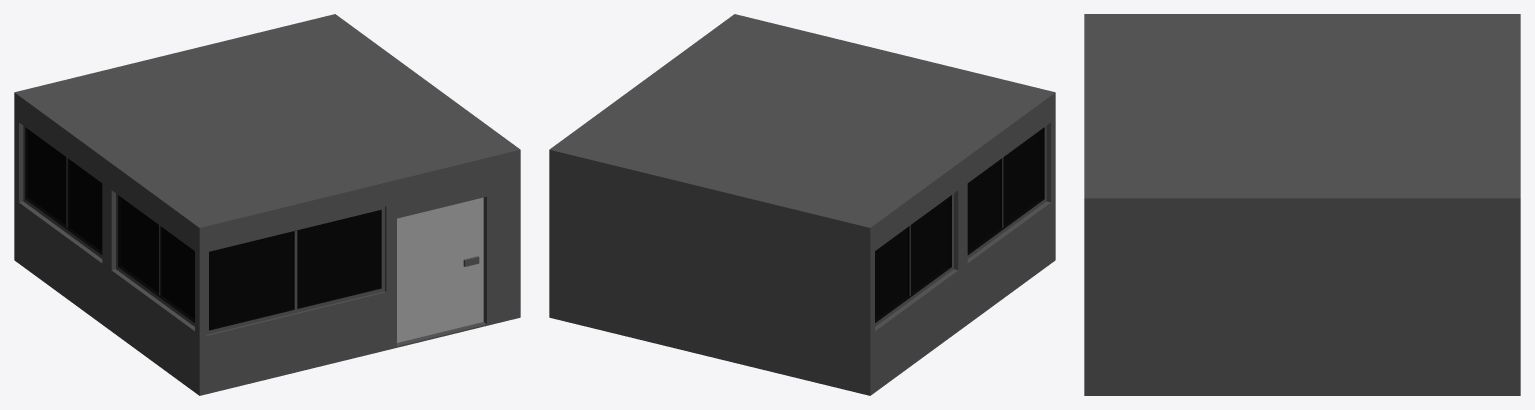
File: Immeuble1Bas.fbx
The picture shows the model from 3 angles, left to right: view 1: azimuth 30°, elevation 25°; view 2: azimuth 150°, elevation 25°; view 3: azimuth 270°, elevation 25°; orthographic projection. The views are drawn at different scales.
Visible parts, largest first — view 1: Cube.071; view 2: Cube.071; view 3: Cube.071.
Boxes of the visible parts, x1,y1,x2,y2 form: Cube.071: (14, 14, 520, 395); Cube.071: (549, 14, 1055, 395); Cube.071: (1084, 14, 1520, 395).
Bounding box in the file's own units: 2000 × 1000 × 2000.
